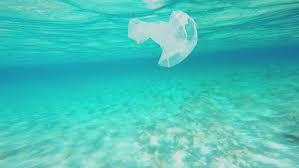Plastic bag: (119, 5, 216, 73)
